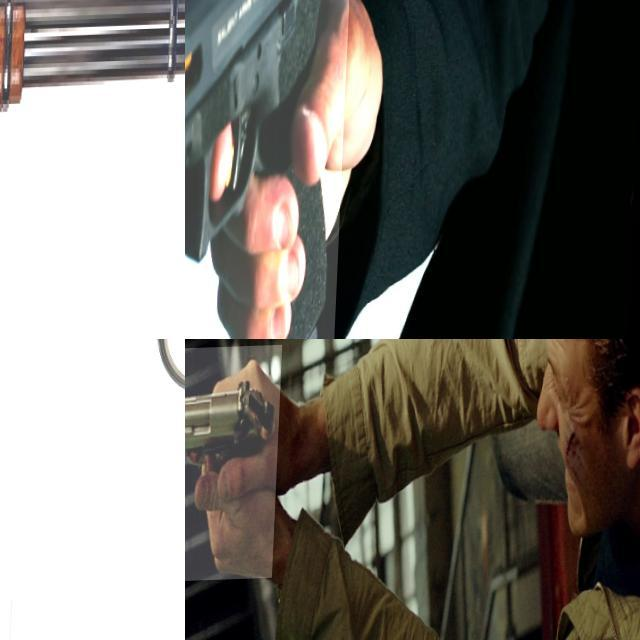gun-knife-thesis - v11 Yolov5 augmented: (0, 0, 185, 339), (185, 0, 359, 339), (0, 339, 185, 640), (185, 346, 284, 583)
